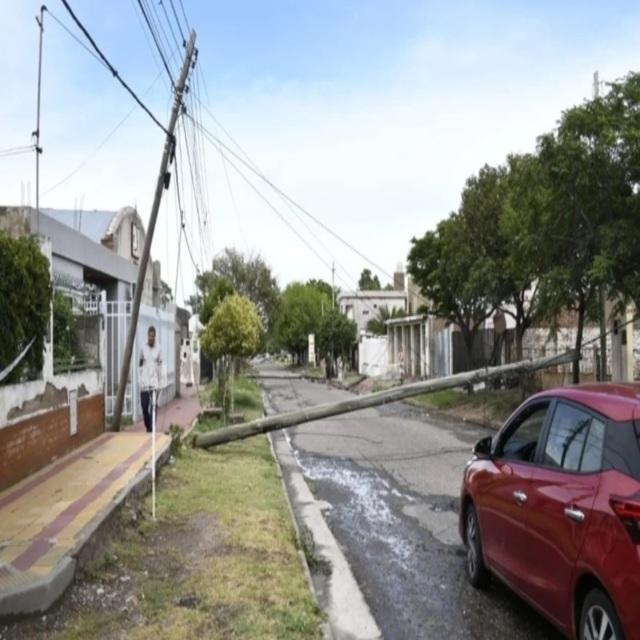Inclined Pole: (184, 347, 585, 453)
